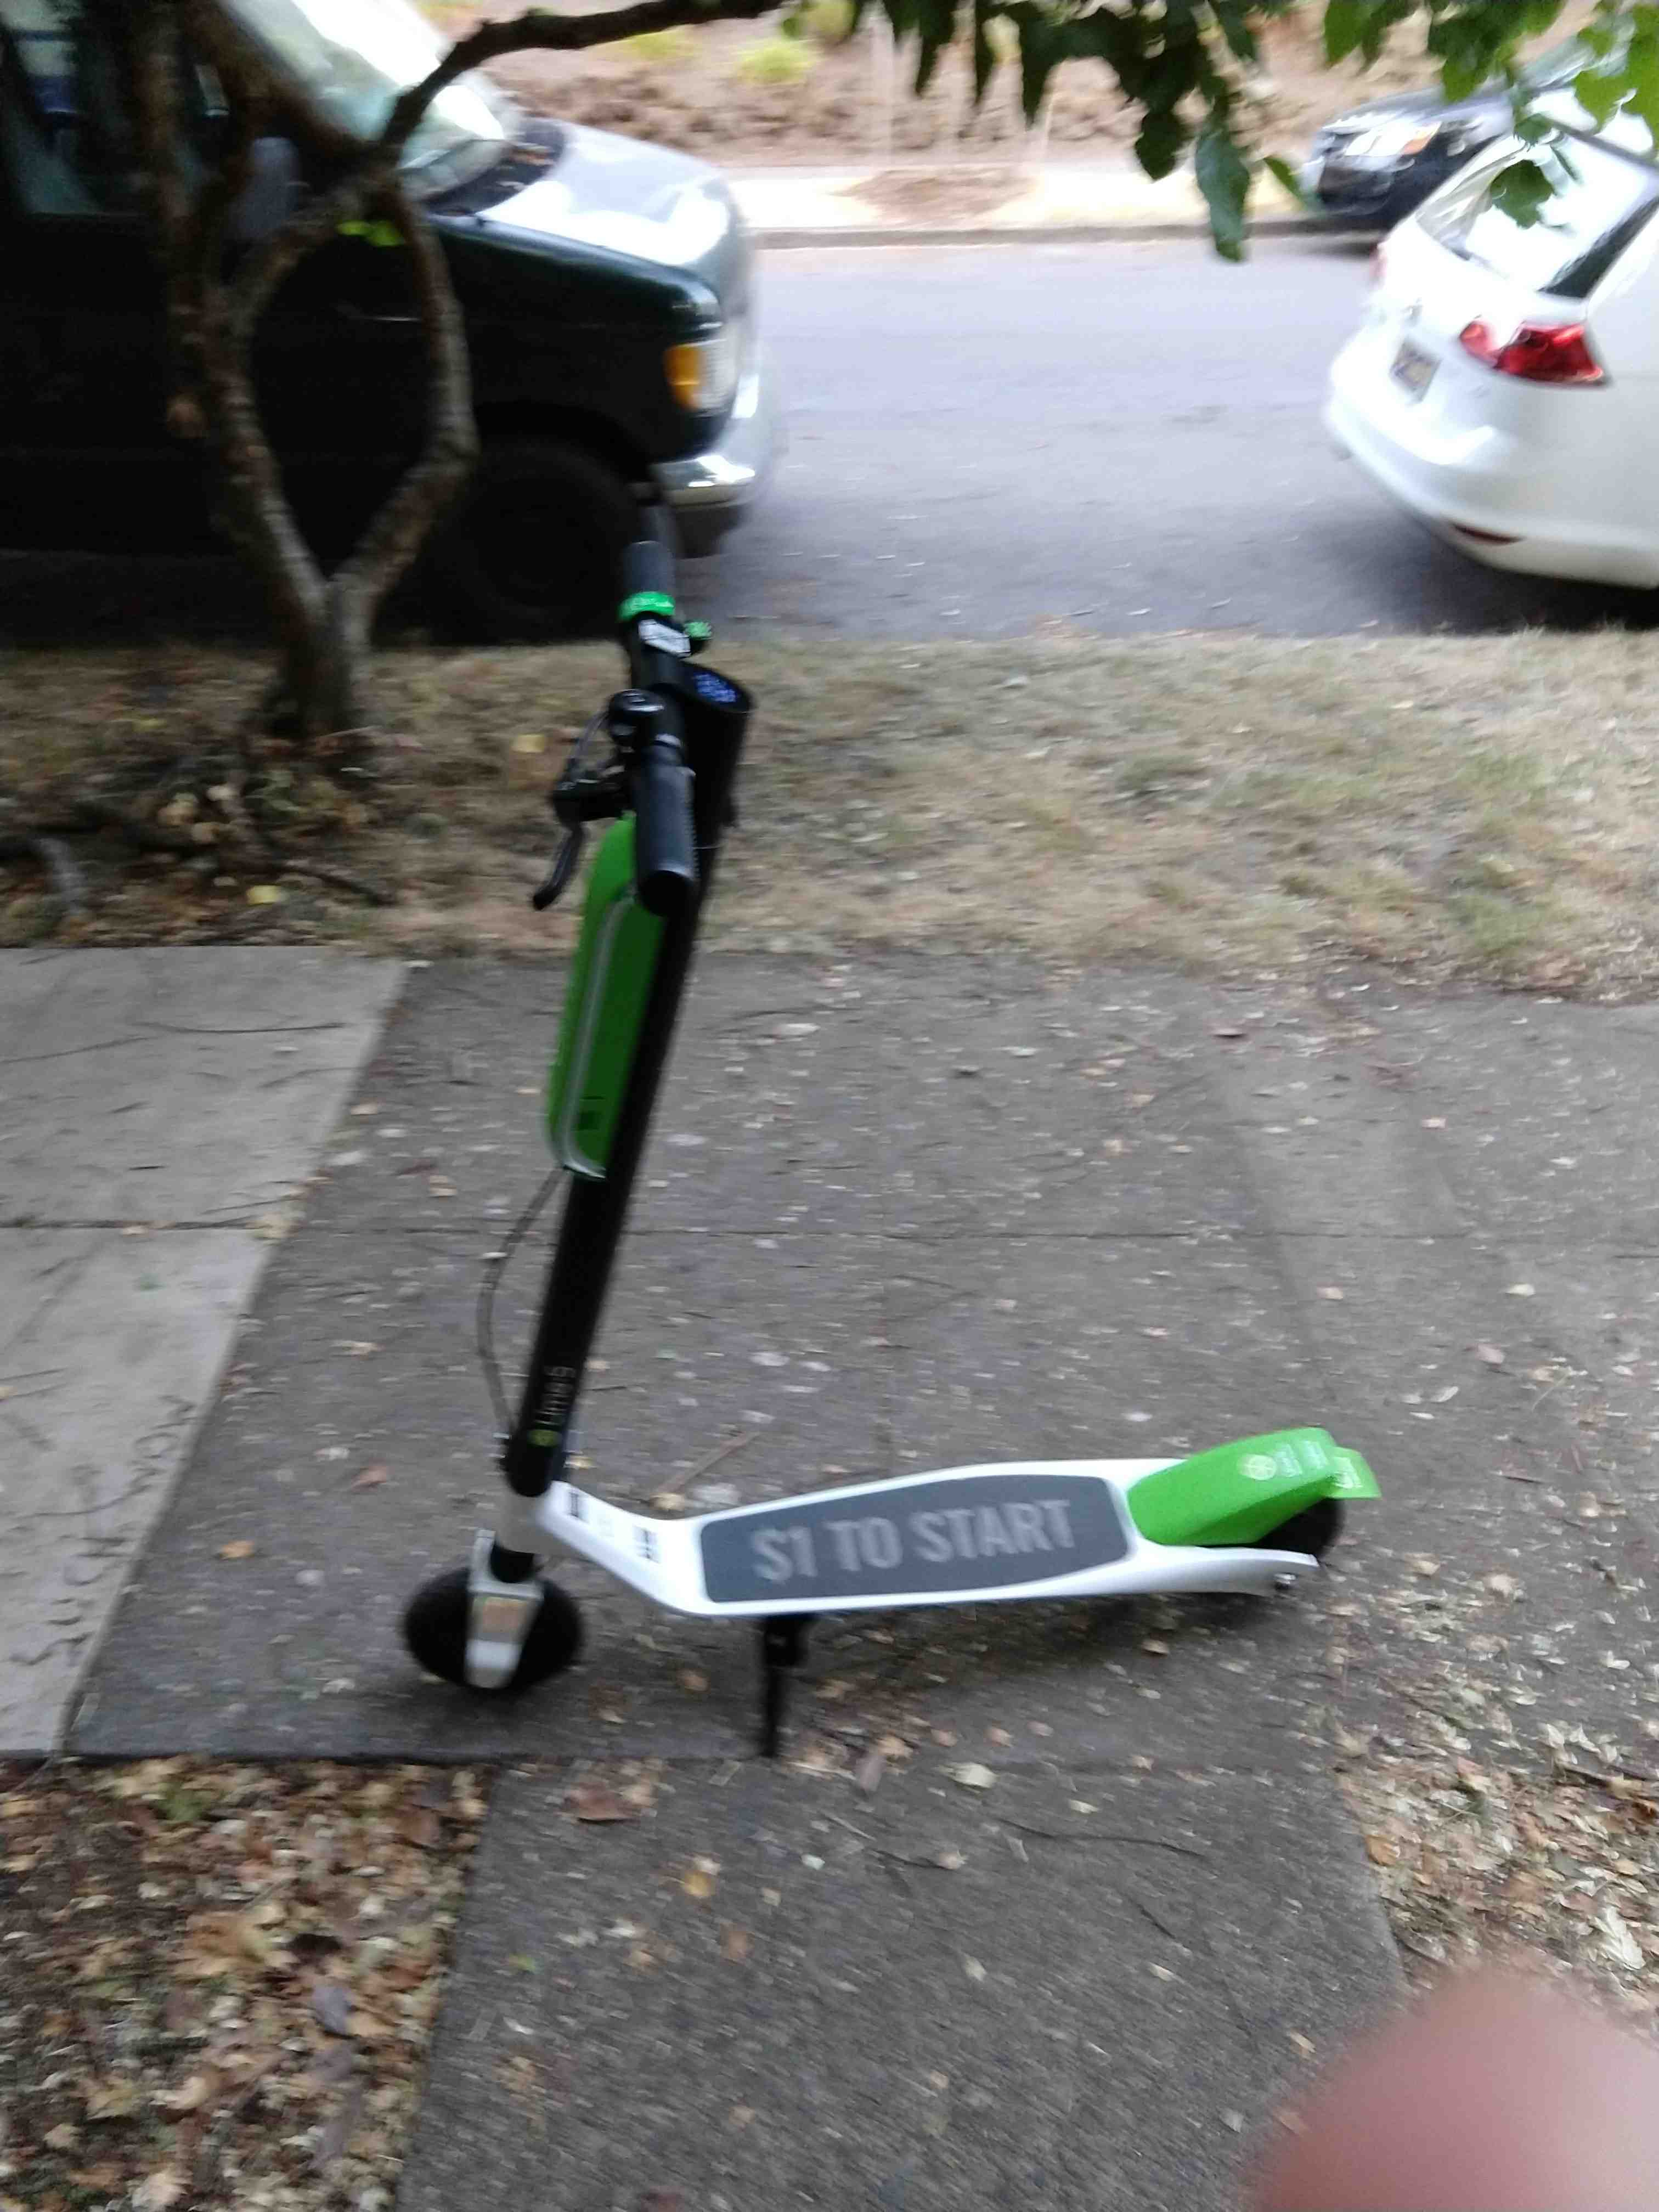scooter: (392, 526, 1398, 1780)
